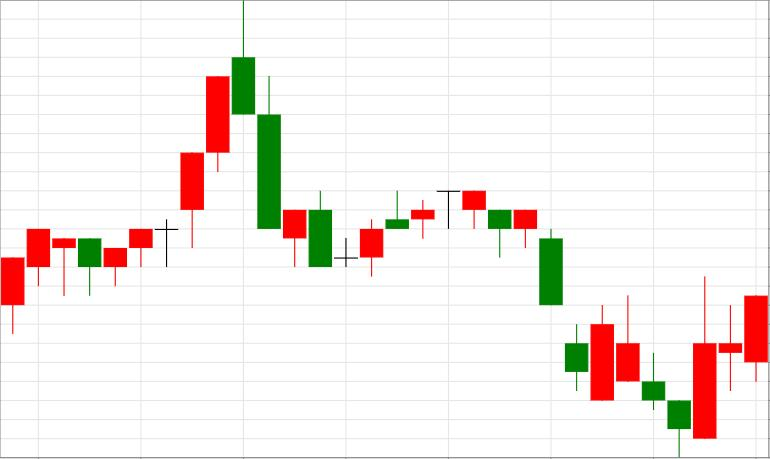bullish_engulfing_rise: (463, 191, 613, 400)
